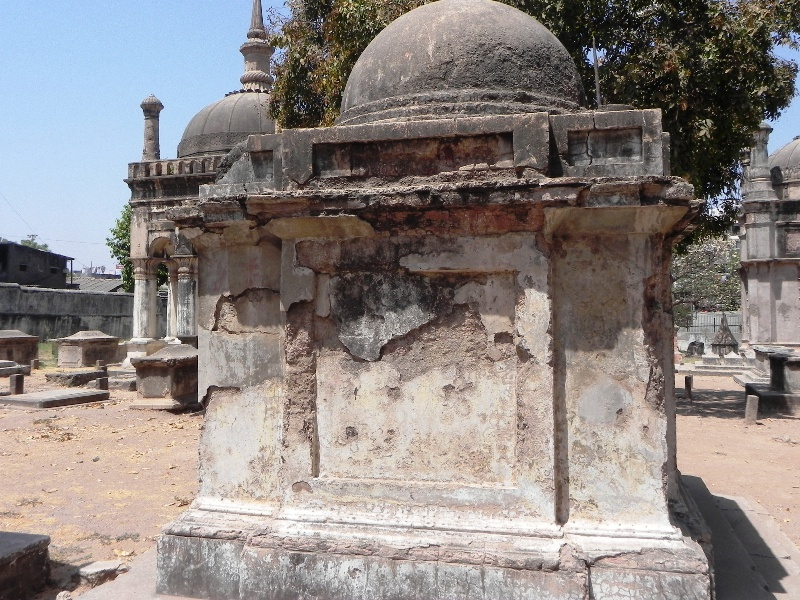Spalling: (283, 290, 321, 456), (196, 386, 245, 428)
